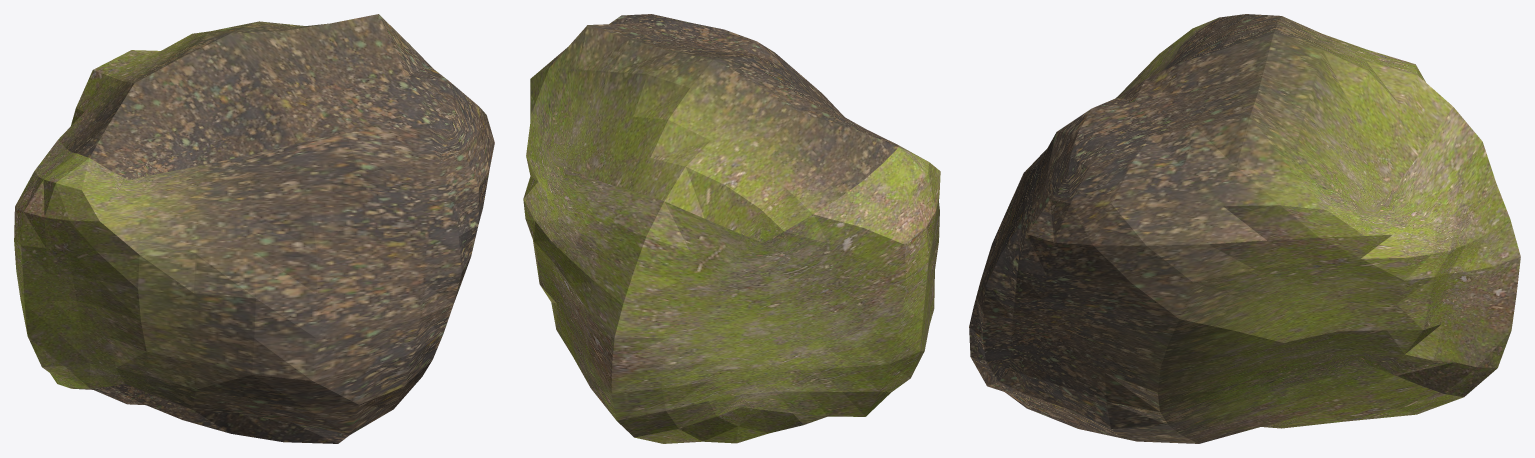
Rendered from rock.gltf.
3 renders of one model, left to right at view 1: azimuth 30°, elevation 25°; view 2: azimuth 150°, elevation 25°; view 3: azimuth 270°, elevation 25°, orthographic. The views are drawn at different scales.
Parts seen in each view (by area): view 1: Rock; view 2: Rock; view 3: Rock.
Part boxes in pixels (x1,y1,x2,y2): Rock: (14,14,494,443); Rock: (523,14,940,443); Rock: (969,14,1520,443).
Size of the model in its own units: 5 by 4 by 5.01.
